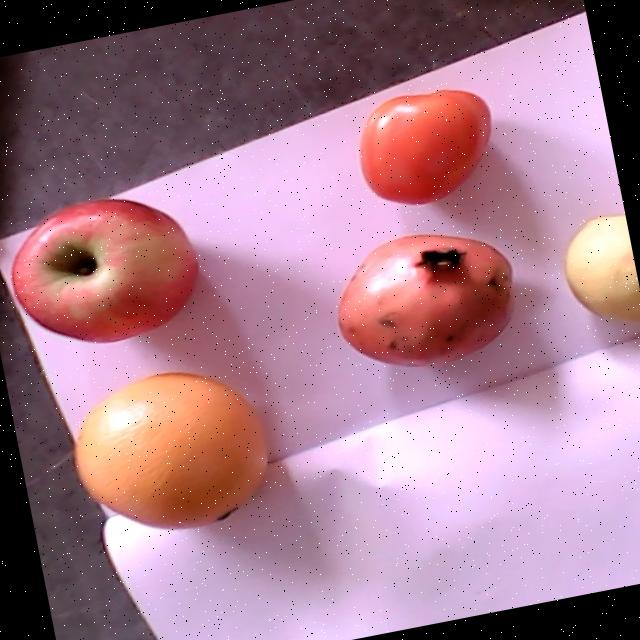apple: (12, 198, 199, 342)
lemon: (565, 214, 640, 322)
orange: (73, 372, 268, 528)
pomegranate: (339, 233, 516, 367)
tomato: (360, 89, 492, 204)
